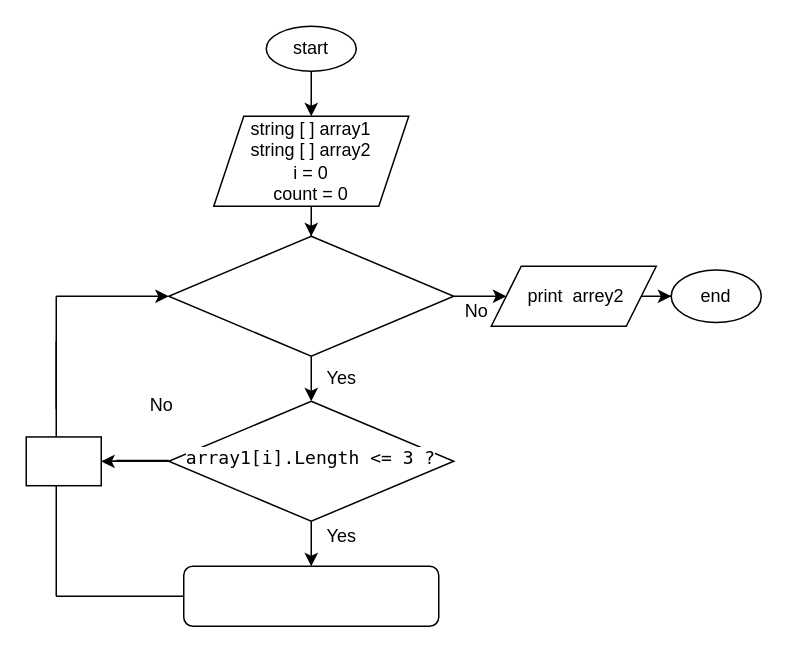
Some shapes in this 788 by 653 pixel diagram are drawn without their labels. Each missing label, with the box of its shape:
array1 [i] = array2 [count] count ++: (182, 565, 439, 626)
i++: (25, 435, 101, 486)
int i = 0 ; i < array1 . Length ; i ++ ?: (167, 235, 454, 356)
